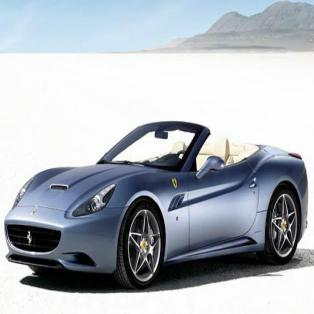Auto: (3, 120, 309, 290)
